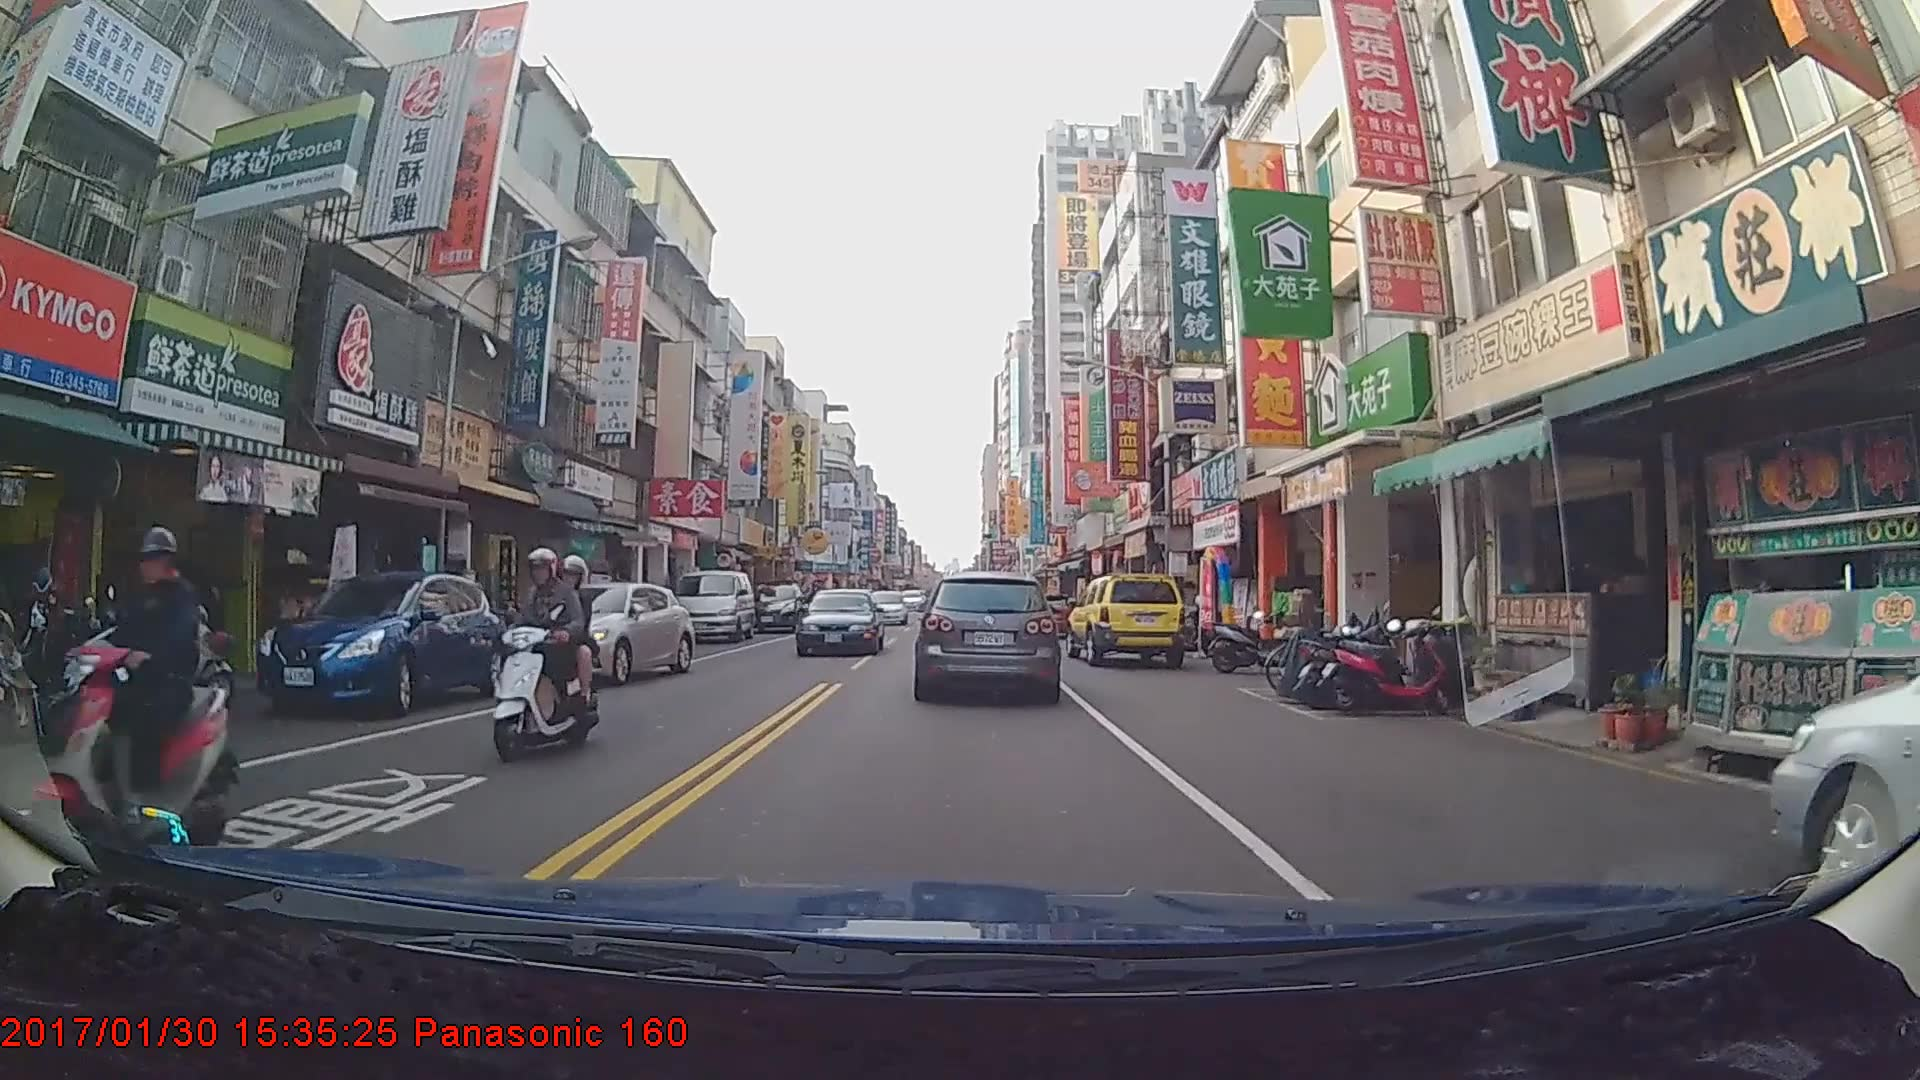rider: (29, 520, 244, 862), (491, 545, 609, 760)
vehicle: (1769, 549, 1919, 971), (250, 564, 506, 710), (503, 582, 694, 685), (918, 570, 1057, 702), (1066, 567, 1189, 665), (672, 568, 755, 642), (794, 586, 881, 653), (753, 581, 807, 634), (863, 587, 906, 624)
